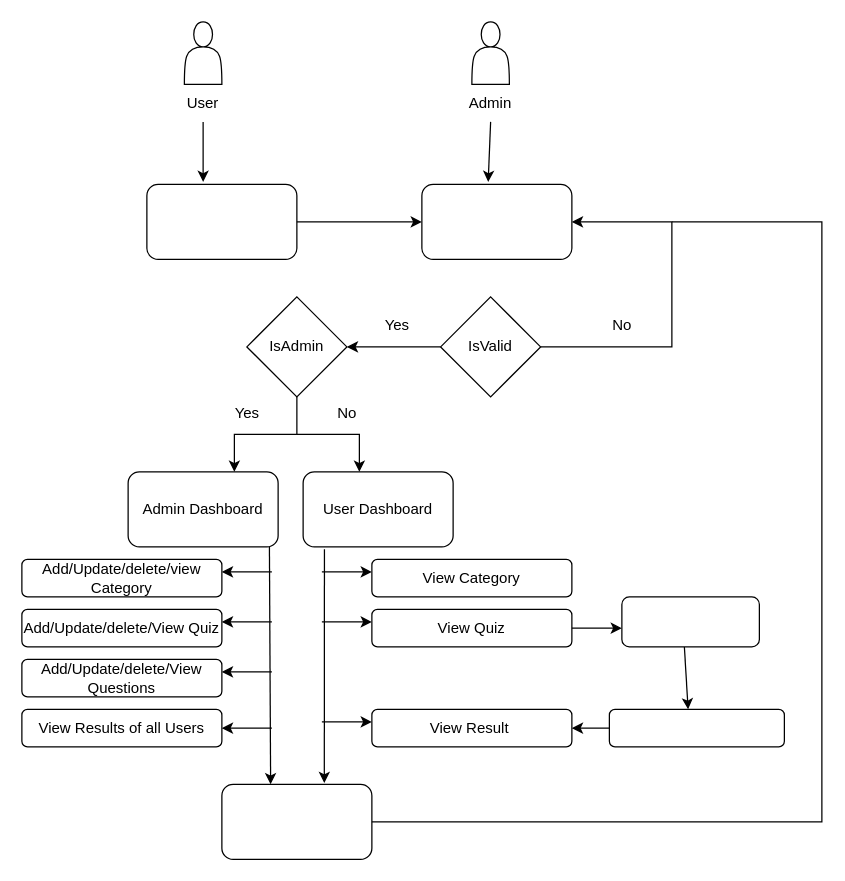
The diagram is 845 pixels wide and 881 high, and some of its shapes have lost their labels. The shapes that lost their labels are listed below. From the top down, each one's centre as x and y in pixels, then its label:
At [221,221]: "Register".
At [496,221]: "Login".
At [690,621]: "Take Quiz".
At [696,727]: "View Questions".
At [296,821]: "Logout".
